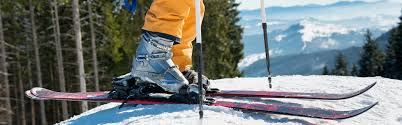skis: (24, 84, 379, 122)
